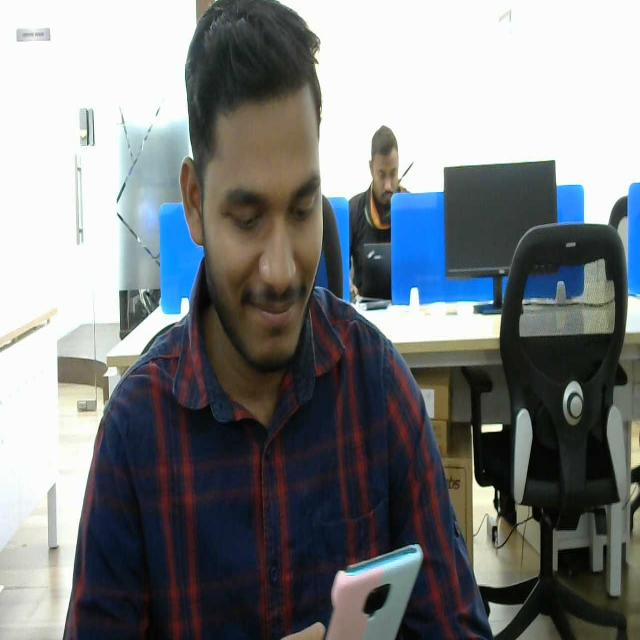phone: (326, 545, 424, 634)
